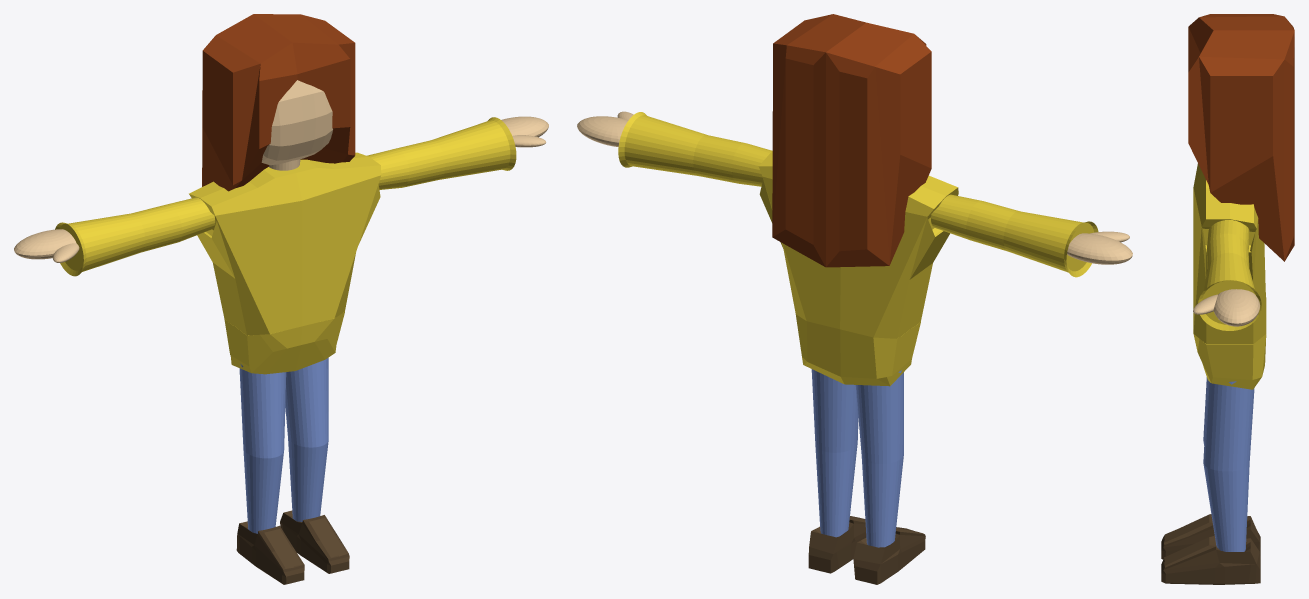
File: La Trombonette_Character 2.fbx
3 renders of one model, left to right at view 1: azimuth 30°, elevation 25°; view 2: azimuth 150°, elevation 25°; view 3: azimuth 270°, elevation 25°, orthographic. The views are drawn at different scales.
Visible parts, largest first — view 1: Torse, Cheveux, Jambe, Head, Sphere; view 2: Cheveux, Torse, Jambe, Sphere; view 3: Cheveux, Jambe, Torse, Sphere.
Part boxes in pixels (x1,y1,x2,y2): Torse: (55,117,516,374); Cheveux: (202,14,355,191); Jambe: (236,357,349,584); Head: (261,80,332,165); Sphere: (14,116,548,262); Cheveux: (772,14,931,267); Torse: (618,112,1098,386); Jambe: (808,369,925,584); Sphere: (577,111,1132,264); Cheveux: (1188,14,1294,261); Jambe: (1161,377,1260,584); Torse: (1193,163,1266,389); Sphere: (1193,289,1259,326).
Bounding box in the file's own units: 1212 × 1128 × 254.
